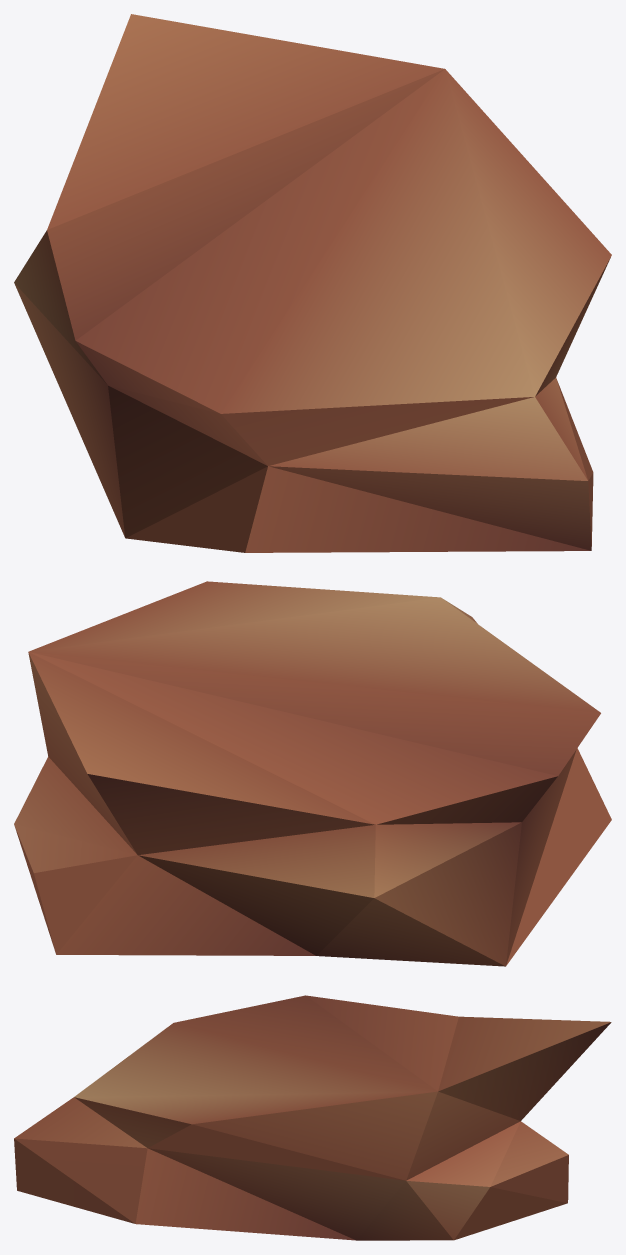
Rendered from Mixed_Rock_06.fbx.
3 renders of one model, top to bottom at view 1: azimuth 30°, elevation 25°; view 2: azimuth 150°, elevation 25°; view 3: azimuth 270°, elevation 25°, orthographic. The views are drawn at different scales.
Parts seen in each view (by area): view 1: Rock_06.001; view 2: Rock_06.001; view 3: Rock_06.001.
Part boxes in pixels (x1,y1,x2,y2): Rock_06.001: (14,14,611,552); Rock_06.001: (14,581,611,966); Rock_06.001: (14,995,611,1240).
Bounding box in the file's own units: 422 × 267 × 676.
